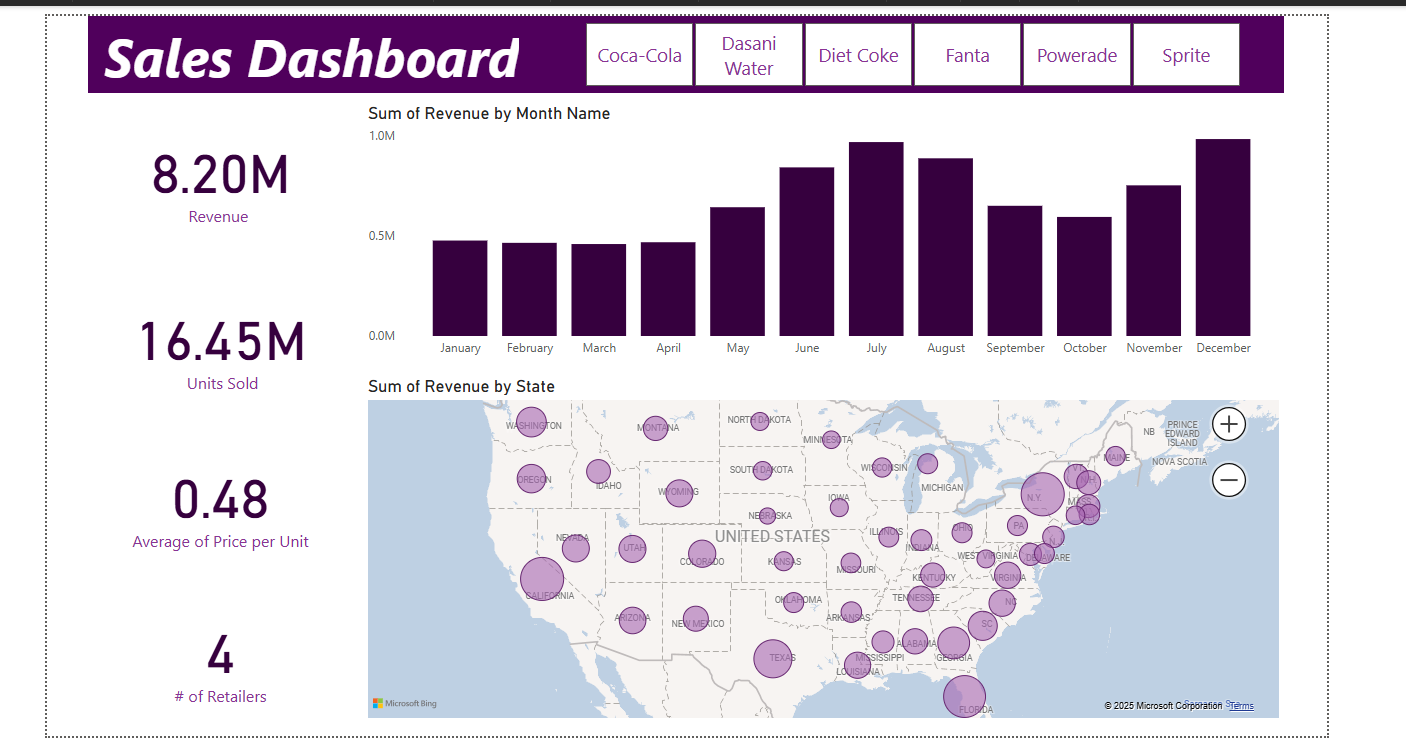

The dashboard page shown, as its layout file describes it:
{"tool":"powerbi","page":{"name":"Page 1","canvas":[1280,720],"ordinal":0},"visuals":[{"type":"shape","box":[41,0,1196,77],"z":0},{"type":"card","fields":{"Values":["Sum(Data.Revenue )"]},"box":[31,87,285,148],"z":1},{"type":"card","fields":{"Values":["Avg(Data.Price per Unit)"]},"box":[31,420.3,285,132],"z":2},{"type":"card","fields":{"Values":["Sum(Data.Units Sold)"]},"box":[31,257.7,285,140],"z":3},{"type":"columnChart","fields":{"Y":["Sum(Data.Revenue )"],"Category":["Data.Month Name"]},"box":[316,87,921,263],"z":4},{"type":"map","fields":{"Category":["Data.State"],"Size":["Sum(Data.Revenue )"]},"box":[316,360,921,347],"z":5},{"type":"slicer","fields":{"Values":["Data.Beverage Brand"]},"box":[513,0,704,77],"z":6},{"type":"card","fields":{"Values":["Count(Data.Retailer)"]},"box":[31,575,285,132],"z":7}]}

Visuals, with their boxes on the page's 1280x720 design canvas (x1, y1, x2, y2). These are canvas units, not pixel positions in the 1406x744 screenshot, which may show the page scaled, cropped or inside an application window:
shape: <bbox>41, 0, 1237, 77</bbox>
card - Sum(Data.Revenue ): <bbox>31, 87, 316, 235</bbox>
card - Avg(Data.Price per Unit): <bbox>31, 420, 316, 552</bbox>
card - Sum(Data.Units Sold): <bbox>31, 258, 316, 398</bbox>
columnChart - Sum(Data.Revenue ) x Data.Month Name: <bbox>316, 87, 1237, 350</bbox>
map - Data.State x Sum(Data.Revenue ): <bbox>316, 360, 1237, 707</bbox>
slicer - Data.Beverage Brand: <bbox>513, 0, 1217, 77</bbox>
card - Count(Data.Retailer): <bbox>31, 575, 316, 707</bbox>
